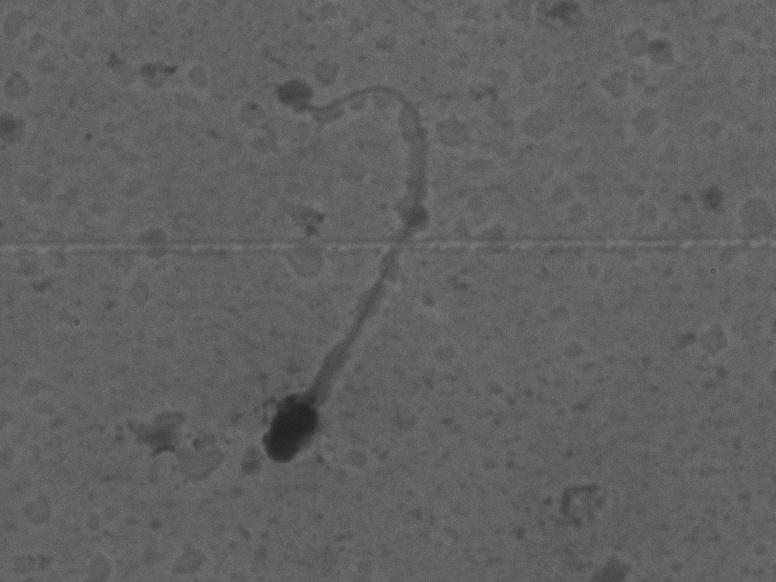Abnormal: (171, 62, 462, 488)
